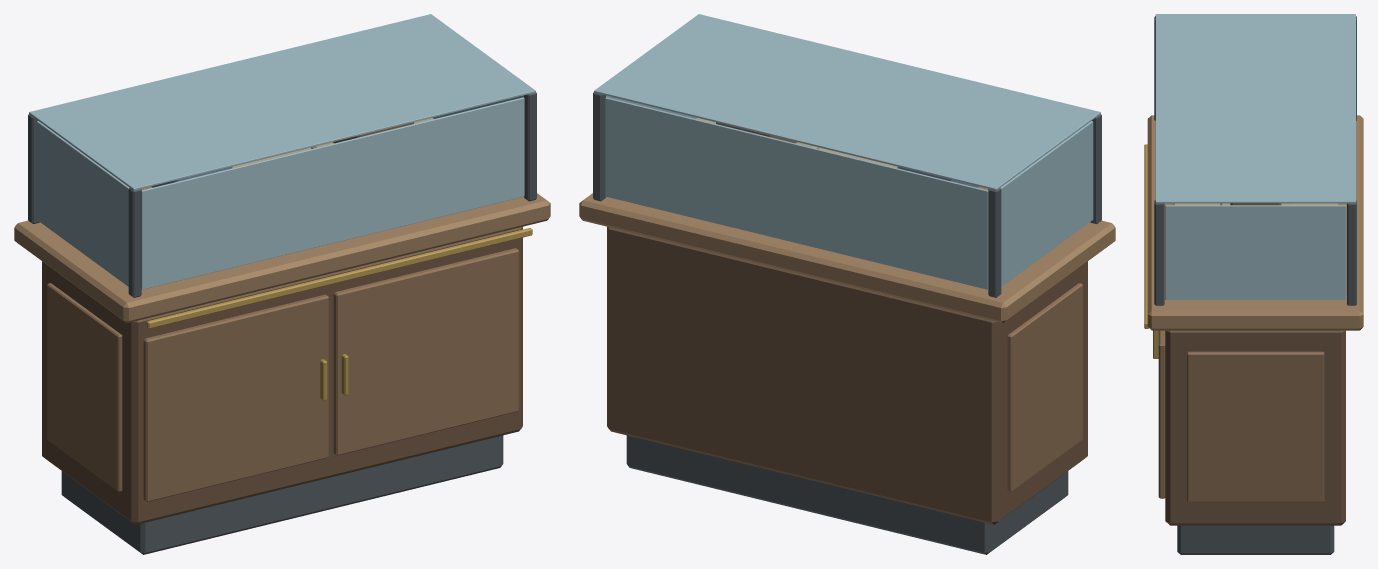
File: 0-20261016-1900-ev025-r04-mockup-glassdisplaycase.fbx
3 renders of one model, left to right at view 1: azimuth 30°, elevation 25°; view 2: azimuth 150°, elevation 25°; view 3: azimuth 270°, elevation 25°, orthographic. The views are drawn at different scales.
Parts seen in each view (by area): view 1: SW_Showroom_GlassDisplayCase; view 2: SW_Showroom_GlassDisplayCase; view 3: SW_Showroom_GlassDisplayCase.
Part boxes in pixels (bbox=[...]): SW_Showroom_GlassDisplayCase: bbox=[14, 14, 550, 554]; SW_Showroom_GlassDisplayCase: bbox=[579, 14, 1115, 554]; SW_Showroom_GlassDisplayCase: bbox=[1144, 14, 1363, 554].
Size of the model in its own units: 120 by 102 by 55.9.
